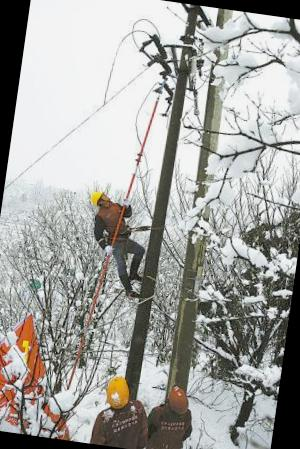person: (76, 183, 152, 299), (85, 371, 150, 449), (139, 380, 198, 449)
